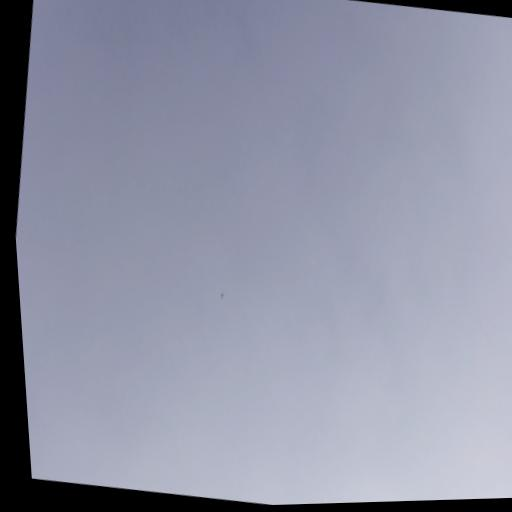drones: (219, 290, 225, 301)
